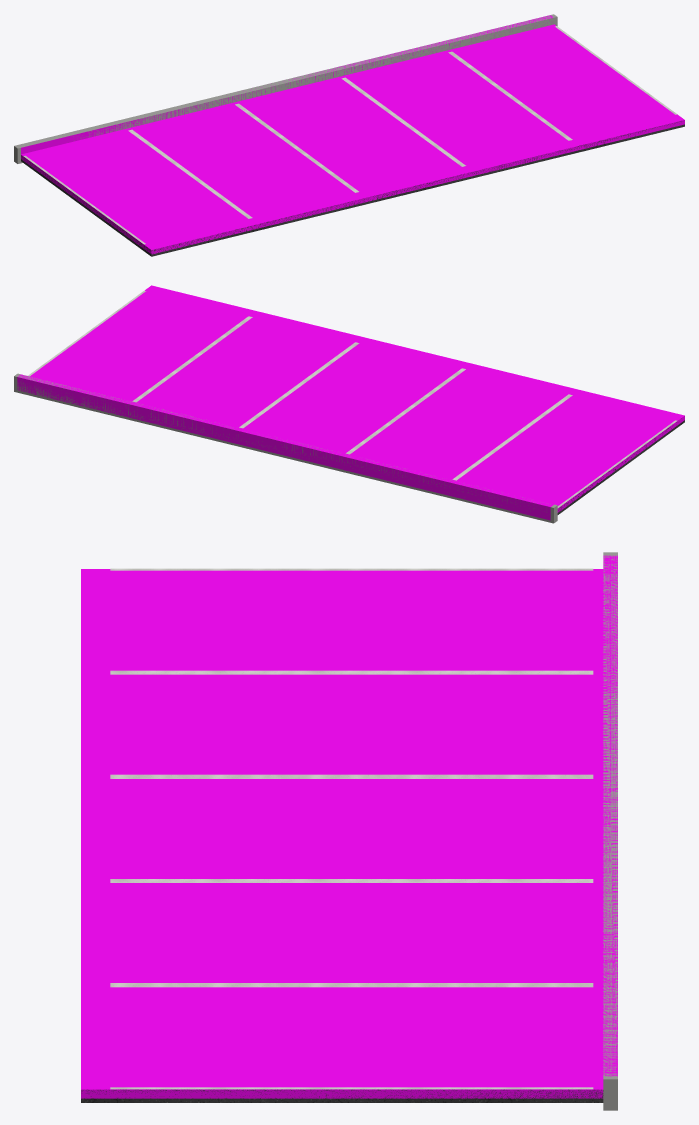
File: EN_Park_Bay_Perp_5x.fbx
3 views of the same model, one above another, from view 1: azimuth 30°, elevation 25°; view 2: azimuth 150°, elevation 25°; view 3: azimuth 270°, elevation 25° (orthographic). The views are drawn at different scales.
Parts seen in each view (by area): view 1: COL_DriveSurface, EN_Park_Bay_Perp_5x_Mesh, EN_Park_Bay_Perp_5x_Markings, COL_Curb; view 2: COL_DriveSurface, COL_Curb, EN_Park_Bay_Perp_5x_Mesh, EN_Park_Bay_Perp_5x_Markings; view 3: COL_DriveSurface, EN_Park_Bay_Perp_5x_Markings, EN_Park_Bay_Perp_5x_Mesh, COL_Curb.
Boxes of the visible parts, x1=… form: COL_DriveSurface: x1=21, y1=24, x2=684, y2=254; EN_Park_Bay_Perp_5x_Mesh: x1=14, y1=14, x2=684, y2=256; EN_Park_Bay_Perp_5x_Markings: x1=23, y1=26, x2=676, y2=244; COL_Curb: x1=21, y1=15, x2=552, y2=154; COL_DriveSurface: x1=30, y1=285, x2=684, y2=512; COL_Curb: x1=17, y1=374, x2=553, y2=520; EN_Park_Bay_Perp_5x_Mesh: x1=14, y1=373, x2=684, y2=523; EN_Park_Bay_Perp_5x_Markings: x1=28, y1=290, x2=677, y2=507; COL_DriveSurface: x1=81, y1=569, x2=603, y2=1098; EN_Park_Bay_Perp_5x_Markings: x1=110, y1=568, x2=593, y2=1089; EN_Park_Bay_Perp_5x_Mesh: x1=81, y1=552, x2=617, y2=1110; COL_Curb: x1=603, y1=555, x2=617, y2=1076.
Size of the model in its own units: 12.65 by 0.35 by 5.45.
